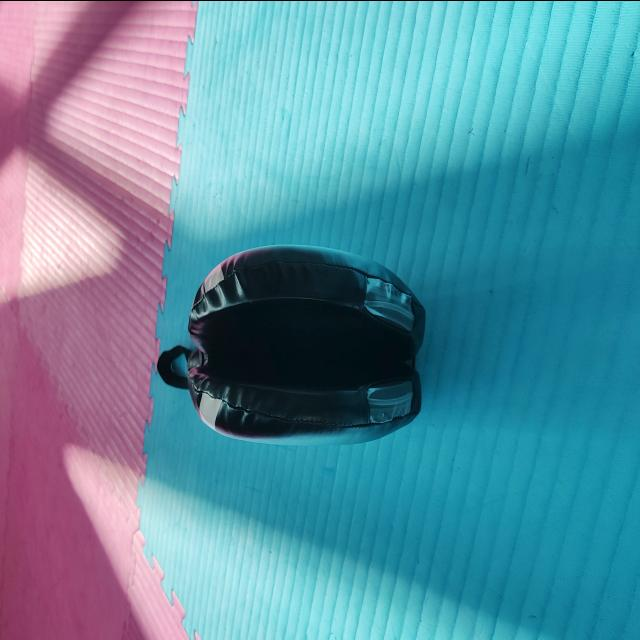paddle: (183, 240, 430, 442)
